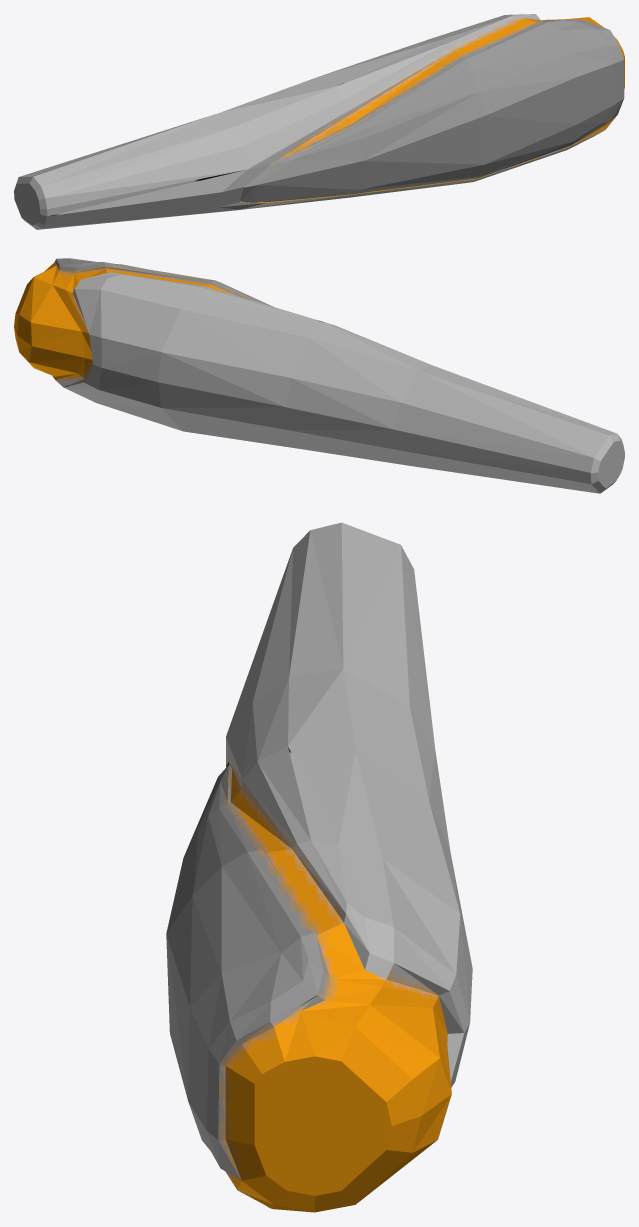
File: RightForearm.obj
3 renders of one model, top to bottom at view 1: azimuth 30°, elevation 25°; view 2: azimuth 150°, elevation 25°; view 3: azimuth 270°, elevation 25°, orthographic. The views are drawn at different scales.
Parts seen in each view (by area): view 1: RightForearm_Mesh.034; view 2: RightForearm_Mesh.034; view 3: RightForearm_Mesh.034.
Boxes of the visible parts, box(x1,y1,x2,y2) form: RightForearm_Mesh.034: box(14, 14, 624, 229); RightForearm_Mesh.034: box(14, 258, 624, 493); RightForearm_Mesh.034: box(166, 522, 472, 1212).
Size of the model in its own units: 0.3043 by 0.0673 by 0.0703.
Materials: 1 (1 with a texture image).
